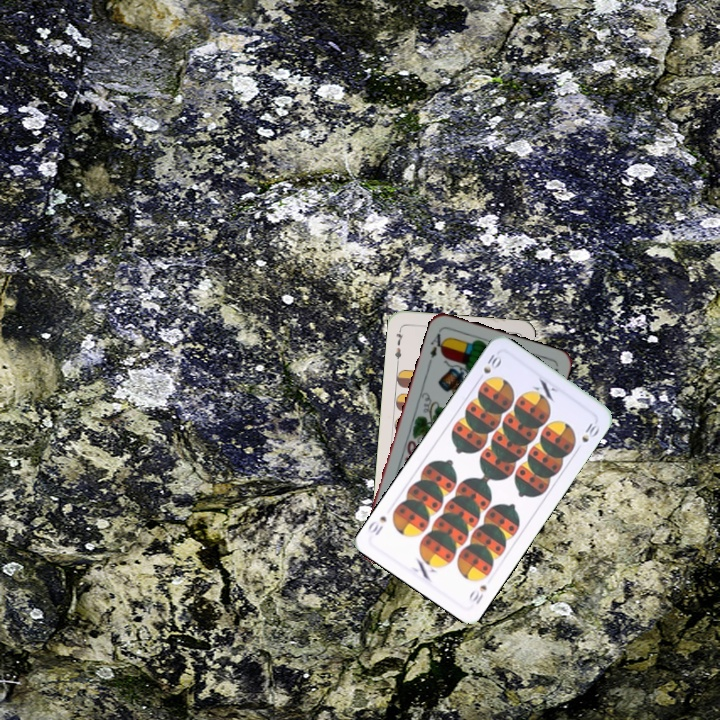E7: (391, 325, 406, 365)
EA: (426, 327, 448, 360)
S10: (473, 350, 505, 384), (465, 581, 489, 607)
